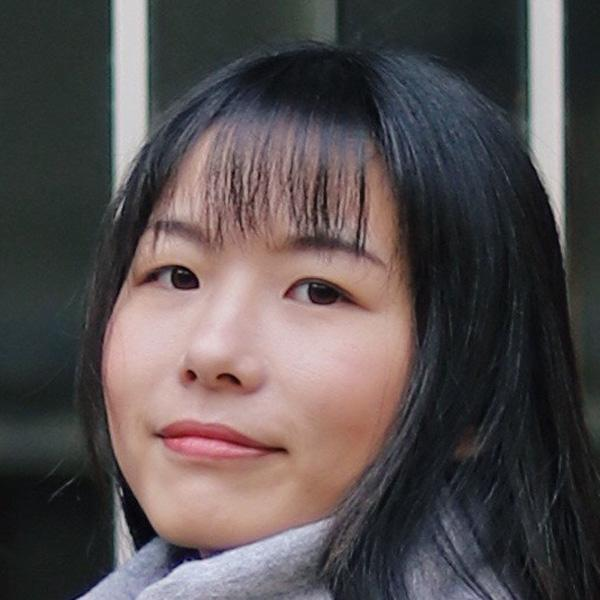Eyes: (276, 263, 363, 318), (133, 248, 206, 303)
